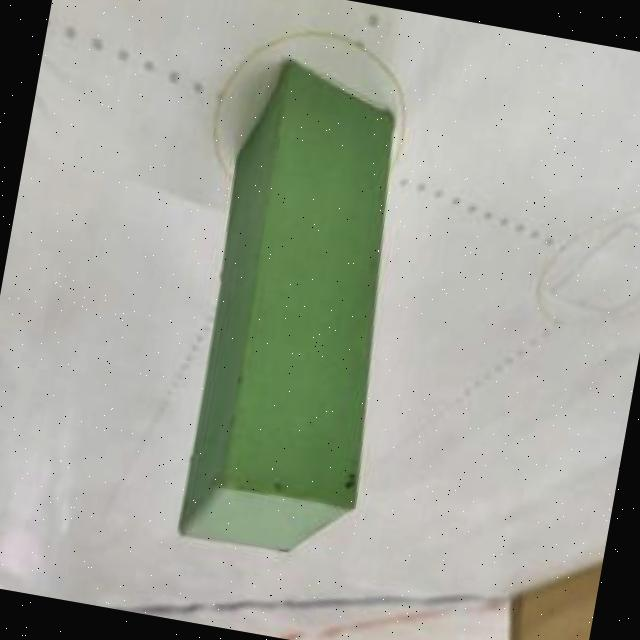greenbox: (172, 54, 432, 566)
